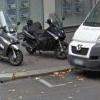Motorcycle: (8, 14, 66, 61)
